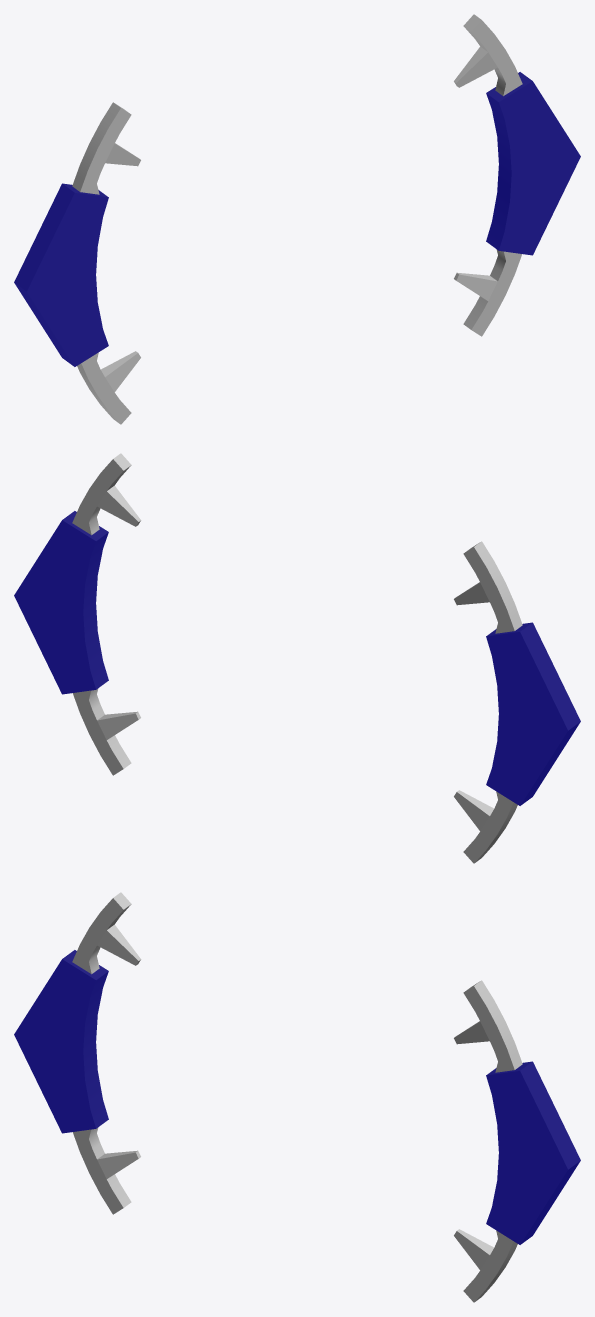
File: TurnRing.fbx
The picture shows the model from 3 angles, top to bottom: view 1: azimuth 30°, elevation 25°; view 2: azimuth 150°, elevation 25°; view 3: azimuth 330°, elevation 25°; orthographic projection.
Visible parts, largest first — view 1: IndicatorArrow_plus, IndicatorArrow_minus, TurnRim; view 2: IndicatorArrow_plus, IndicatorArrow_minus, TurnRim; view 3: IndicatorArrow_minus, IndicatorArrow_plus, TurnRim.
Part boxes in pixels (<box>): IndicatorArrow_plus: <box>14,183,108,366</box>; IndicatorArrow_minus: <box>486,72,580,255</box>; TurnRim: <box>72,14,522,424</box>; IndicatorArrow_plus: <box>486,622,580,805</box>; IndicatorArrow_minus: <box>14,511,108,694</box>; TurnRim: <box>72,453,522,863</box>; IndicatorArrow_minus: <box>486,1061,580,1244</box>; IndicatorArrow_plus: <box>14,950,108,1133</box>; TurnRim: <box>72,892,522,1302</box>.
Size of the model in its own units: 16 by 0.64 by 8.74.
